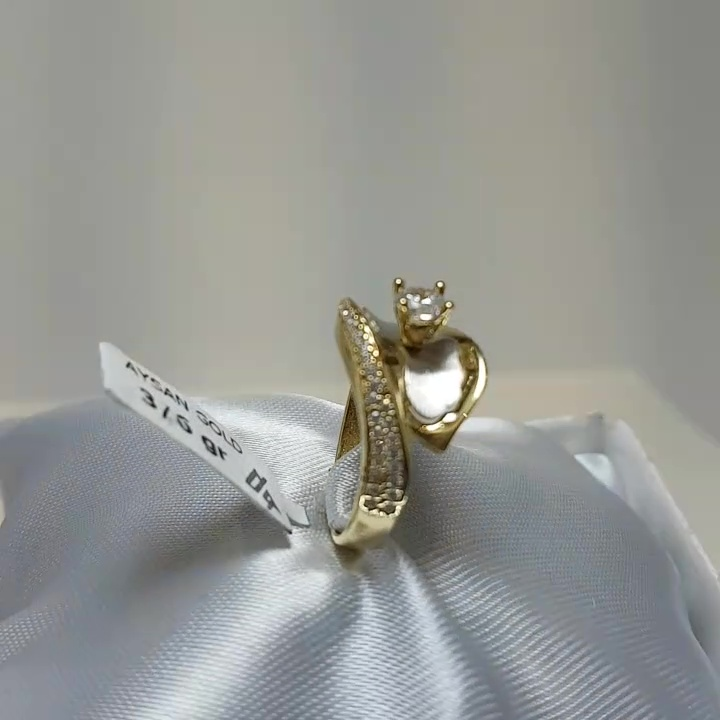Ring 6: (290, 253, 518, 568)
